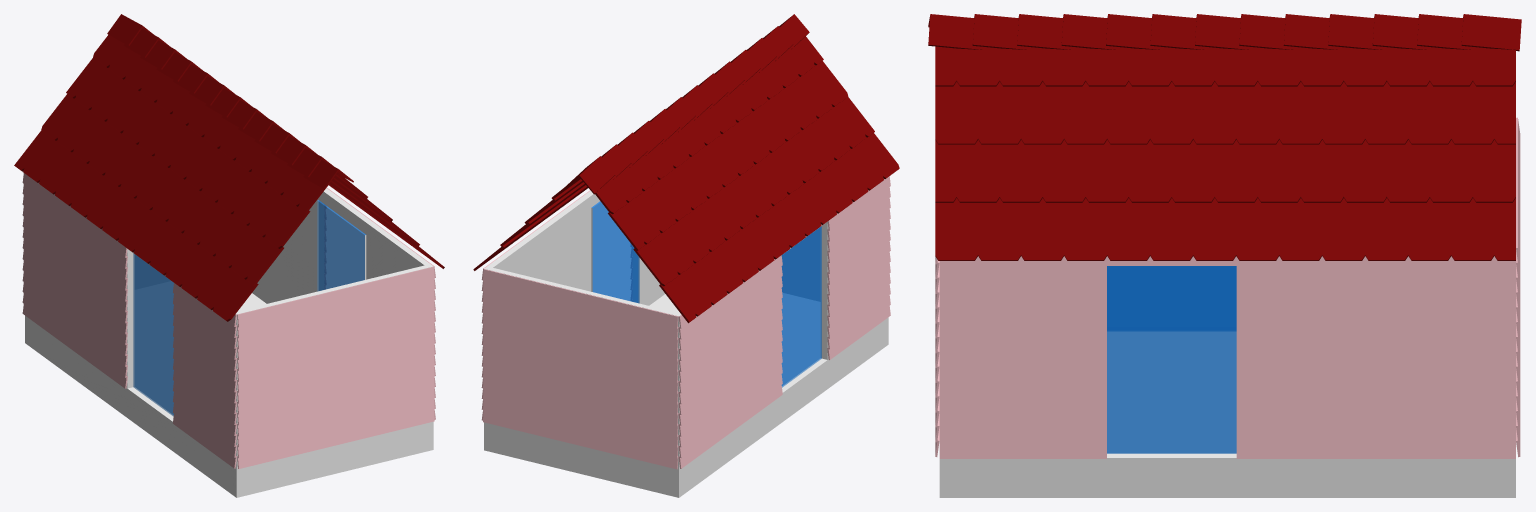
File: house.fbx
The picture shows the model from 3 angles, left to right: view 1: azimuth 30°, elevation 25°; view 2: azimuth 150°, elevation 25°; view 3: azimuth 270°, elevation 25°; orthographic projection. The views are drawn at different scales.
Parts seen in each view (by area): view 1: Group1, Group63, Group59, Group121, clad27, clad82, clad47, clad42, clad43, clad46, clad49, clad50 (+112 smaller); view 2: Group1, Group63, Group59, Group121, clad41, clad96, clad44, clad48, clad50, clad42, clad43, clad49 (+113 smaller); view 3: Group63, Group121, Group59, Group1, clad97, clad100, clad102, clad104, clad101, clad103, clad98, clad99 (+88 smaller).
Boxes of the visible parts, x1,y1,x2,y2 form: Group1: (25, 249, 334, 497); Group63: (135, 188, 433, 473); Group59: (133, 253, 173, 416); Group121: (317, 200, 365, 291); clad27: (237, 290, 336, 327); clad82: (335, 267, 434, 303); clad47: (22, 260, 127, 345); clad42: (22, 217, 127, 301); clad43: (22, 227, 127, 312); clad46: (22, 206, 127, 290); clad49: (22, 282, 127, 366); clad50: (22, 184, 127, 268); Group1: (581, 222, 888, 497); Group63: (484, 190, 787, 473); Group59: (781, 226, 821, 387); Group121: (591, 201, 639, 303); clad41: (580, 292, 678, 328); clad96: (483, 269, 580, 305); clad44: (678, 255, 782, 339); clad48: (678, 352, 782, 436); clad50: (678, 266, 782, 350); clad42: (678, 298, 782, 382); clad43: (678, 309, 782, 393); clad49: (678, 363, 782, 447); Group63: (939, 392, 1515, 497); Group121: (1107, 266, 1236, 453); Group59: (1107, 266, 1235, 330); Group1: (1107, 331, 1236, 391); clad97: (1236, 325, 1515, 340); clad100: (1236, 295, 1515, 310); clad102: (1236, 384, 1515, 399); clad104: (1236, 414, 1515, 429); clad101: (1236, 310, 1515, 325); clad103: (1236, 399, 1515, 414); clad98: (1236, 340, 1515, 354); clad99: (1236, 266, 1515, 280).
Bounding box in the file's own units: 3141 × 4219 × 5422.
